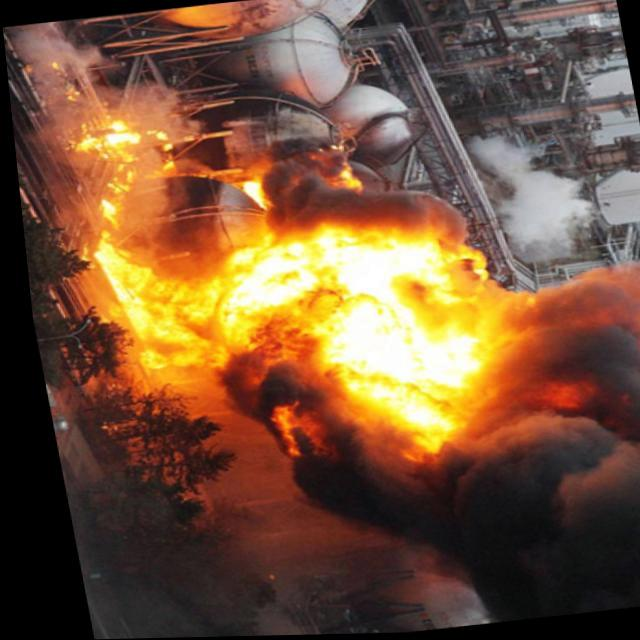fire: (5, 49, 525, 612), (511, 262, 640, 421)
